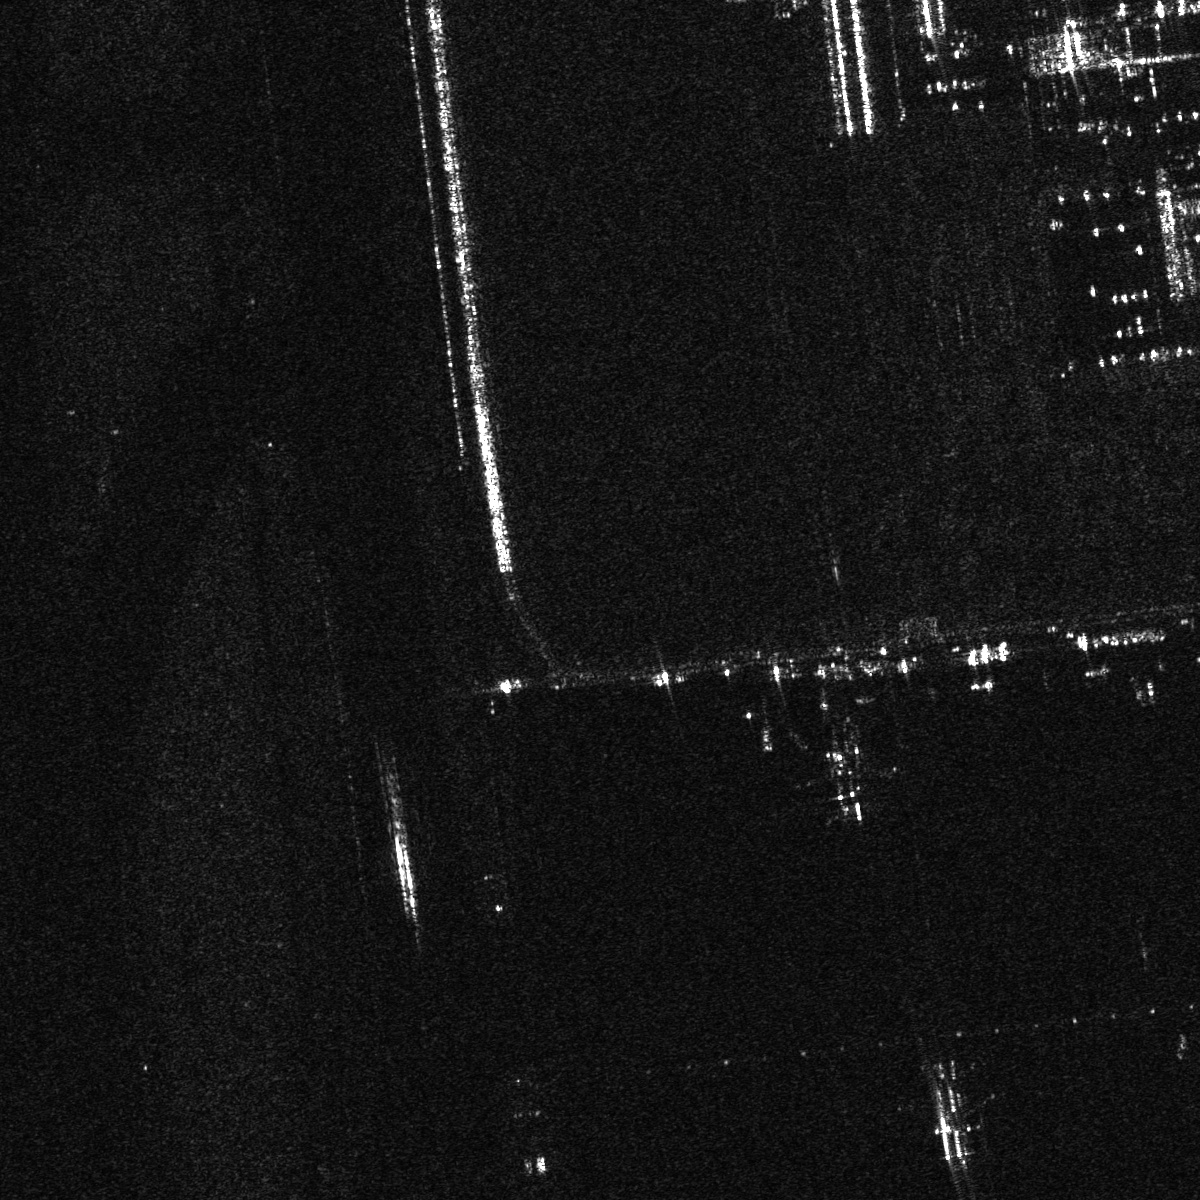A320/321: (785, 735, 904, 834)
